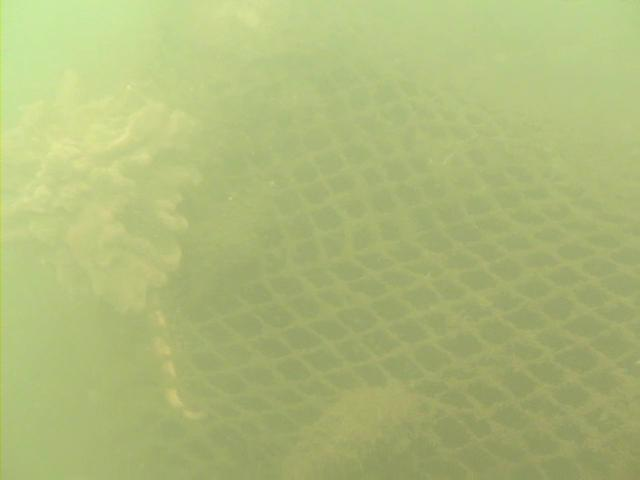fish net: (167, 71, 640, 480)
